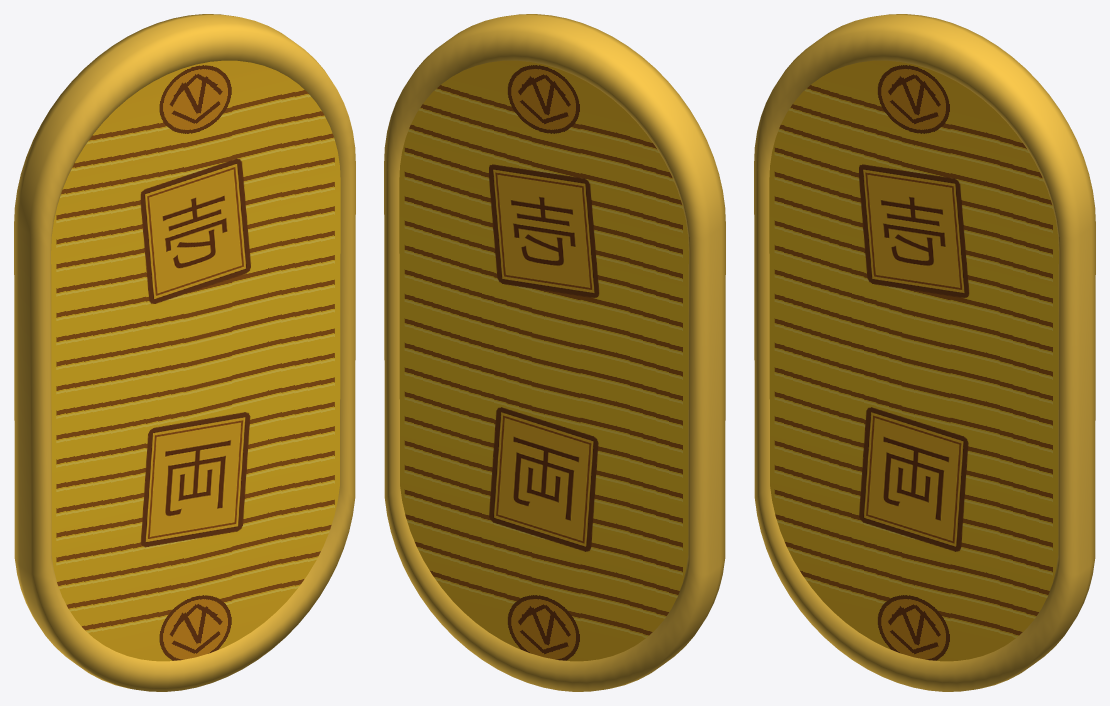
The model's file is koban.glb.
3 views of the same model, side by side, from view 1: azimuth 30°, elevation 25°; view 2: azimuth 150°, elevation 25°; view 3: azimuth 330°, elevation 25° (orthographic).
Parts seen in each view (by area): view 1: Koban; view 2: Koban; view 3: Koban.
Part boxes in pixels (x1,y1,x2,y2): Koban: (14, 14, 355, 691); Koban: (384, 14, 725, 691); Koban: (754, 14, 1095, 691).
Bounding box in the file's own units: 0.46 × 0.9 × 0.07.
Materials: 2 (1 with a texture image).
